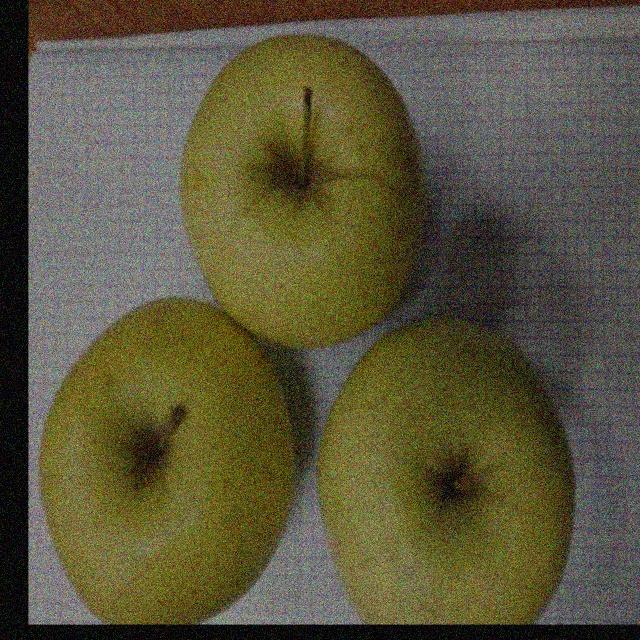green apple: (37, 295, 294, 624), (316, 318, 579, 624), (178, 33, 427, 354)
